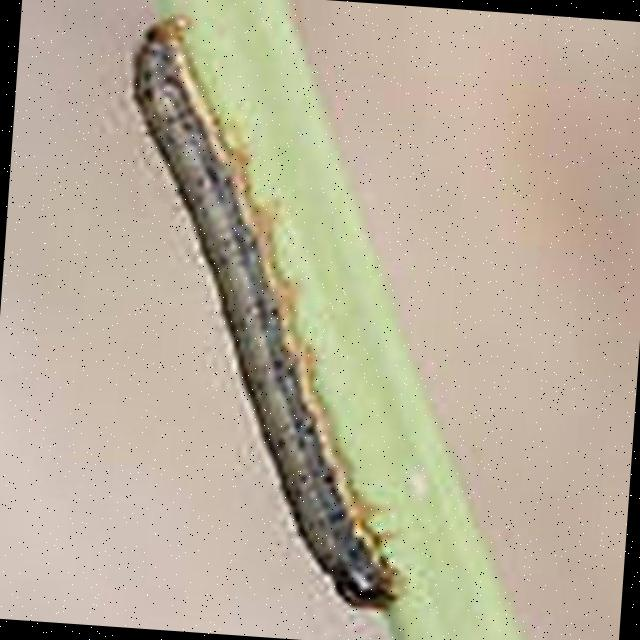worm: (93, 13, 442, 617)
